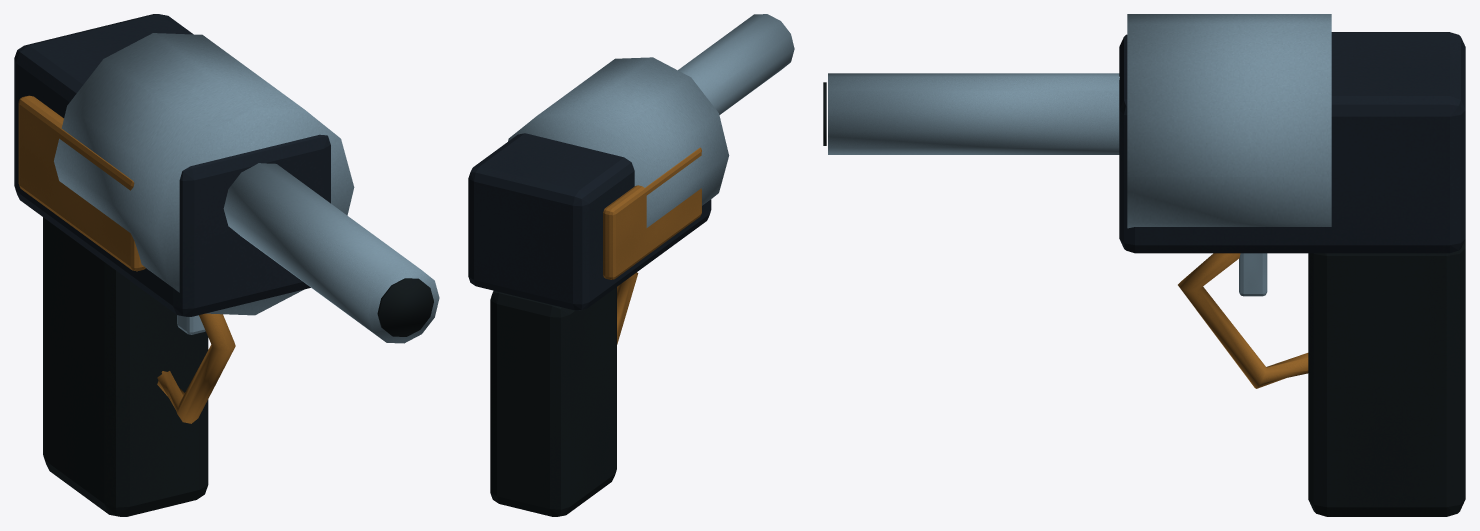
The model's file is Gun_Revolver.fbx.
The picture shows the model from 3 angles, left to right: view 1: azimuth 30°, elevation 25°; view 2: azimuth 150°, elevation 25°; view 3: azimuth 270°, elevation 25°; orthographic projection. The views are drawn at different scales.
Parts seen in each view (by area): view 1: Gun_Revolver_Steel, Gun_Revolver_Leather, Gun_Revolver_DarkSteel, Gun_Revolver_Gold; view 2: Gun_Revolver_Leather, Gun_Revolver_Steel, Gun_Revolver_DarkSteel, Gun_Revolver_Gold; view 3: Gun_Revolver_Steel, Gun_Revolver_Leather, Gun_Revolver_DarkSteel, Gun_Revolver_Gold.
Boxes of the visible parts, x1,y1,x2,y2 form: Gun_Revolver_Steel: (54,33,439,343); Gun_Revolver_Leather: (43,217,433,516); Gun_Revolver_DarkSteel: (14,14,330,316); Gun_Revolver_Gold: (18,95,235,423); Gun_Revolver_Leather: (490,287,616,516); Gun_Revolver_Steel: (508,14,794,227); Gun_Revolver_DarkSteel: (468,133,711,310); Gun_Revolver_Gold: (603,147,701,344); Gun_Revolver_Steel: (828,14,1331,296); Gun_Revolver_Leather: (823,82,1465,516); Gun_Revolver_DarkSteel: (1119,32,1465,253); Gun_Revolver_Gold: (1178,253,1308,388).
Bounding box in the file's own units: 0.146 × 0.333 × 0.408.
